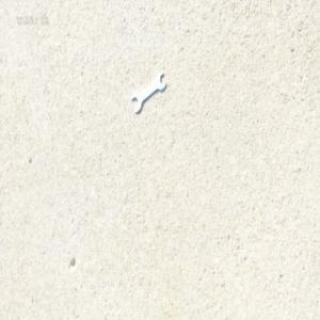Wrenchtrack_idkeyframe: (130, 71, 166, 113)
